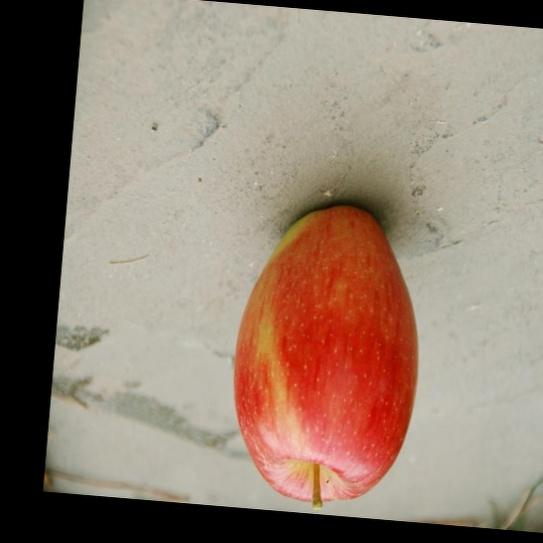red apple: (234, 206, 419, 507)
